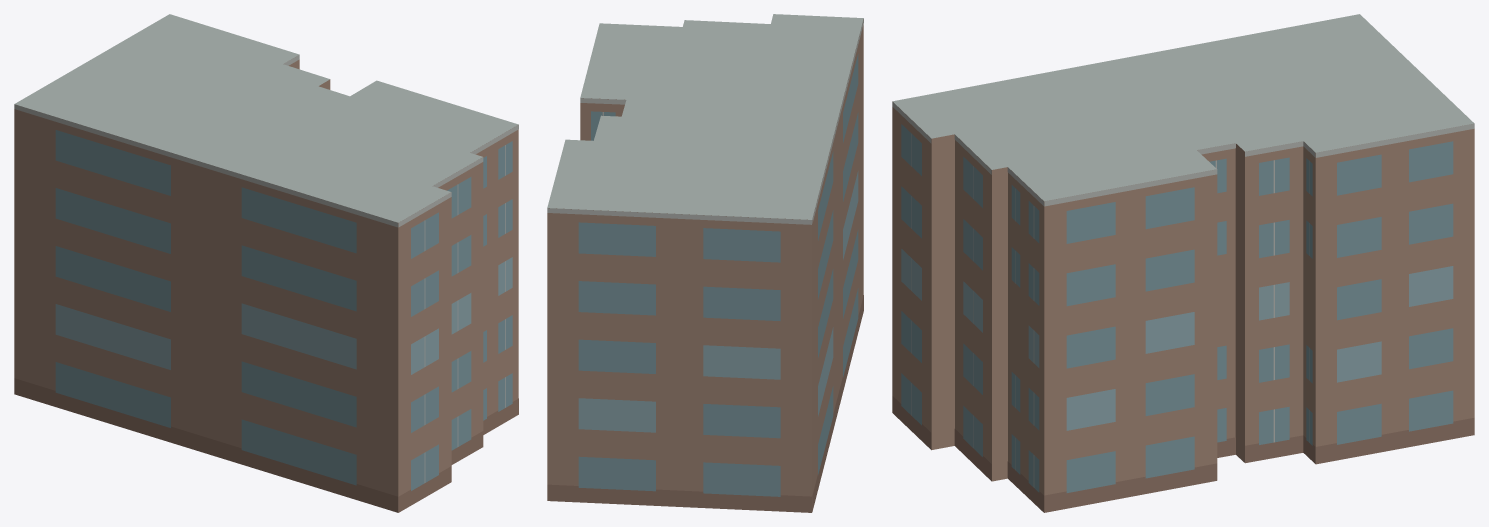
The model's file is survey-upis-32613960.glb.
3 views of the same model, side by side, from view 1: azimuth 30°, elevation 25°; view 2: azimuth 150°, elevation 25°; view 3: azimuth 270°, elevation 25° (orthographic). The views are drawn at different scales.
Visible parts, largest first — view 1: survey-upis-32613960.tmp; view 2: survey-upis-32613960.tmp; view 3: survey-upis-32613960.tmp.
Boxes of the visible parts, <box> form: survey-upis-32613960.tmp: <box>14,14,518,512</box>; survey-upis-32613960.tmp: <box>547,14,863,512</box>; survey-upis-32613960.tmp: <box>892,14,1474,512</box>.
Size of the model in its own units: 18.84 by 14.6 by 24.74.
